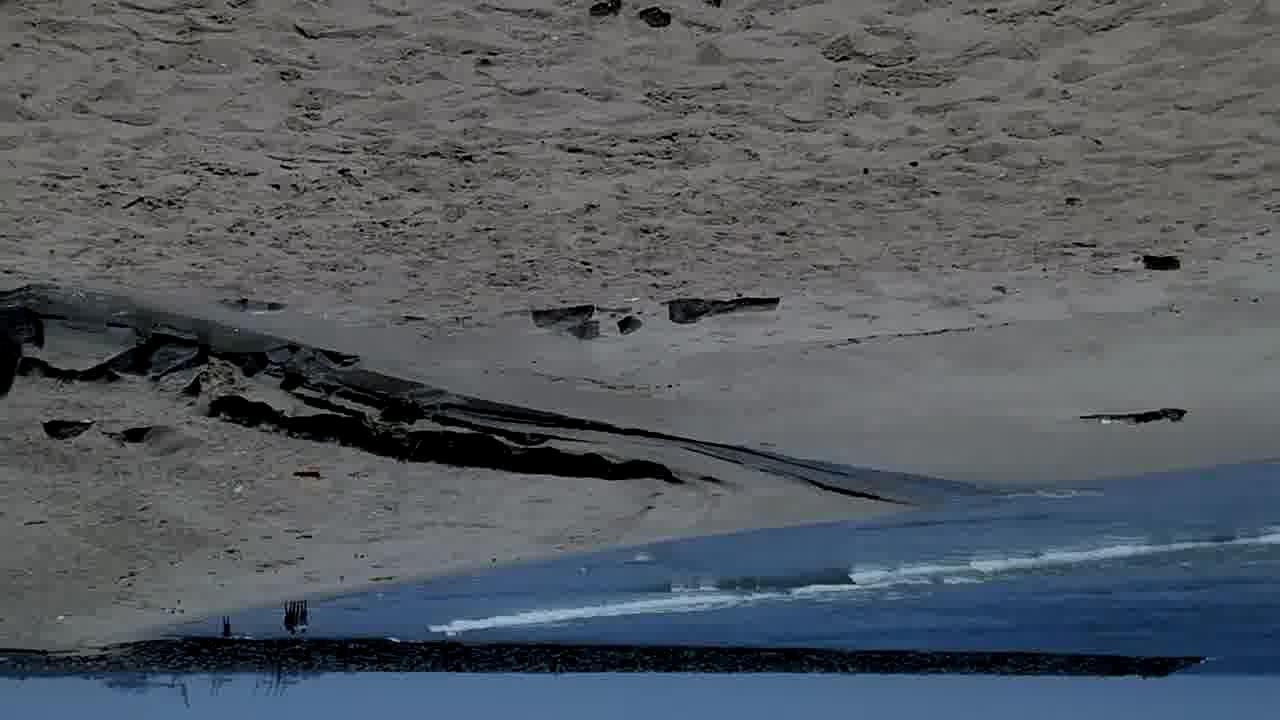large collection of objects: (26, 316, 146, 372), (108, 334, 199, 376), (529, 302, 593, 333), (118, 429, 151, 450)
obj: (666, 295, 780, 328), (1075, 408, 1186, 429), (640, 7, 672, 30), (590, 0, 624, 21)
sand/background: (1, 435, 1279, 719)
